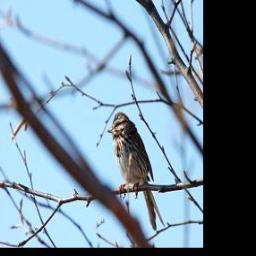Sparrow: (107, 108, 166, 231)
